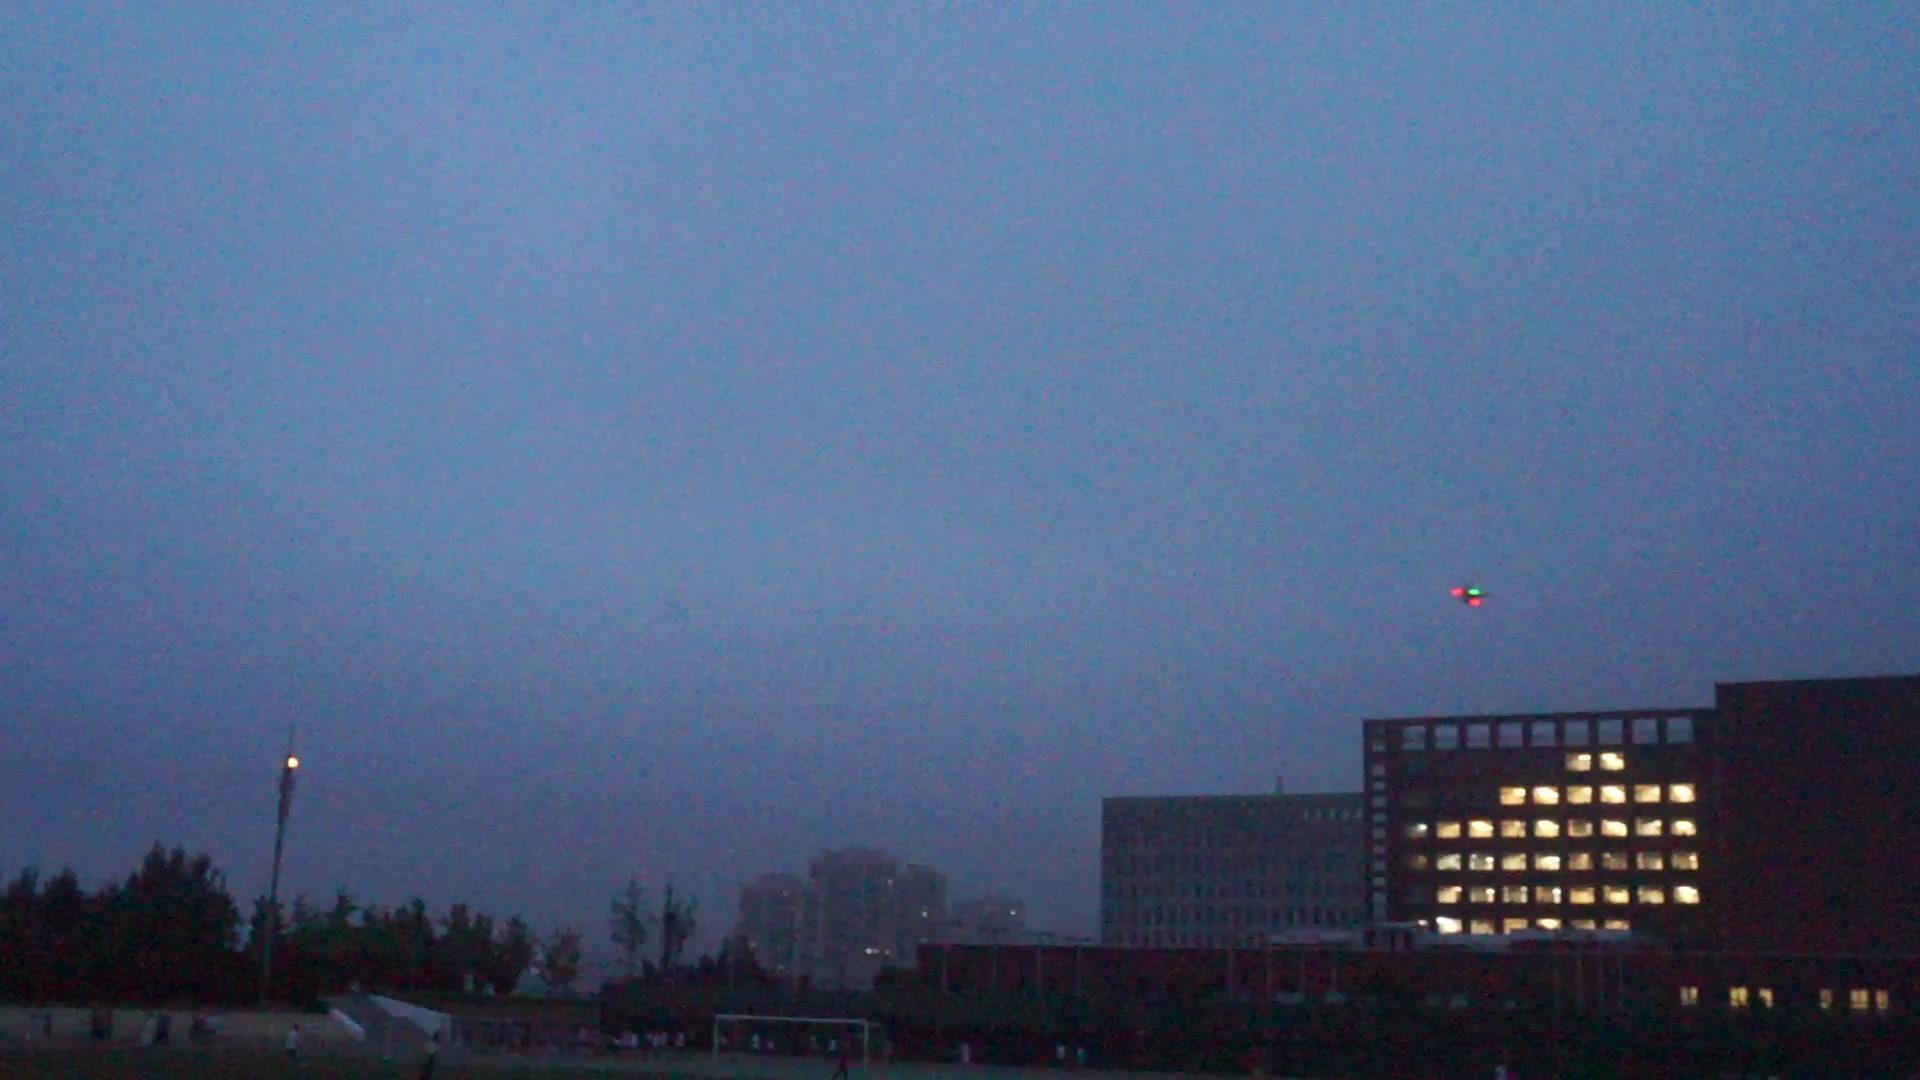UAV: (1451, 585, 1491, 609)
